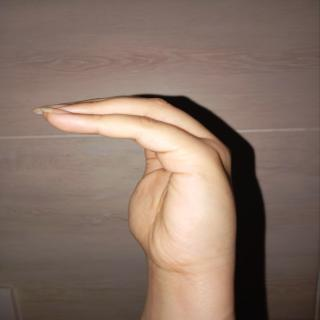HAA: (17, 90, 256, 292)
